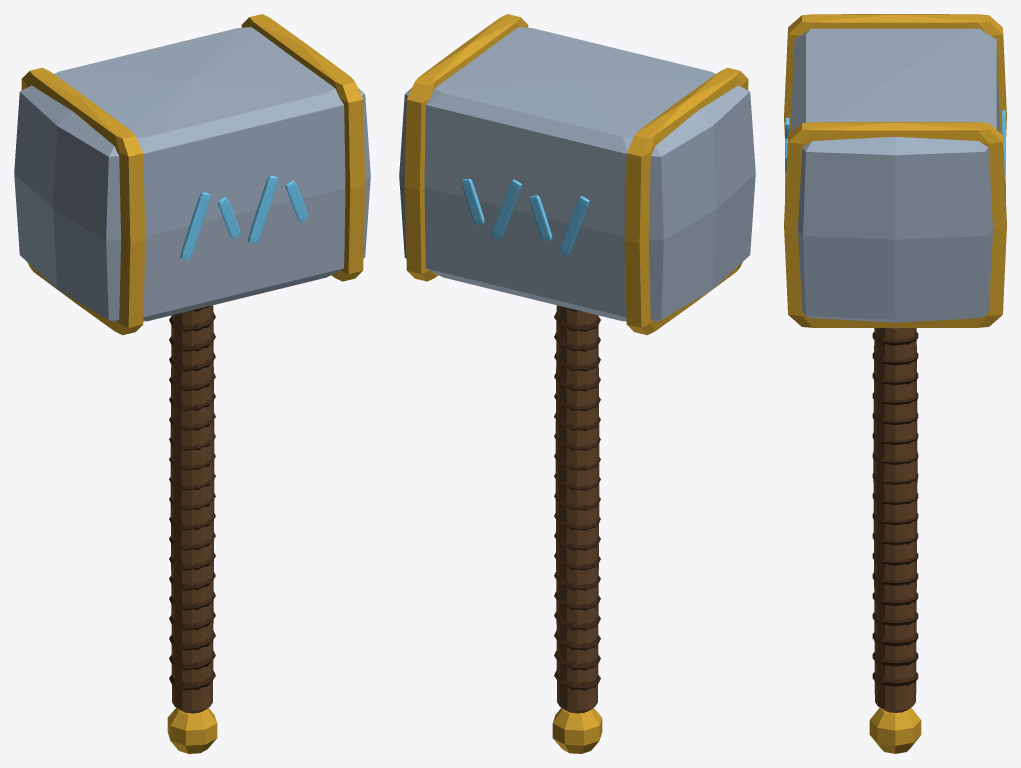
Rendered from m-thunder.glb.
The picture shows the model from 3 angles, left to right: view 1: azimuth 30°, elevation 25°; view 2: azimuth 150°, elevation 25°; view 3: azimuth 270°, elevation 25°; orthographic projection.
Visible parts, largest first — view 1: melee; view 2: melee; view 3: melee.
Boxes of the visible parts, box(x1,y1,x2,y2) form: melee: box(14, 14, 370, 753); melee: box(399, 14, 755, 753); melee: box(784, 14, 1006, 753).
Bounding box in the file's own units: 1.32 × 3.07 × 0.9072.
